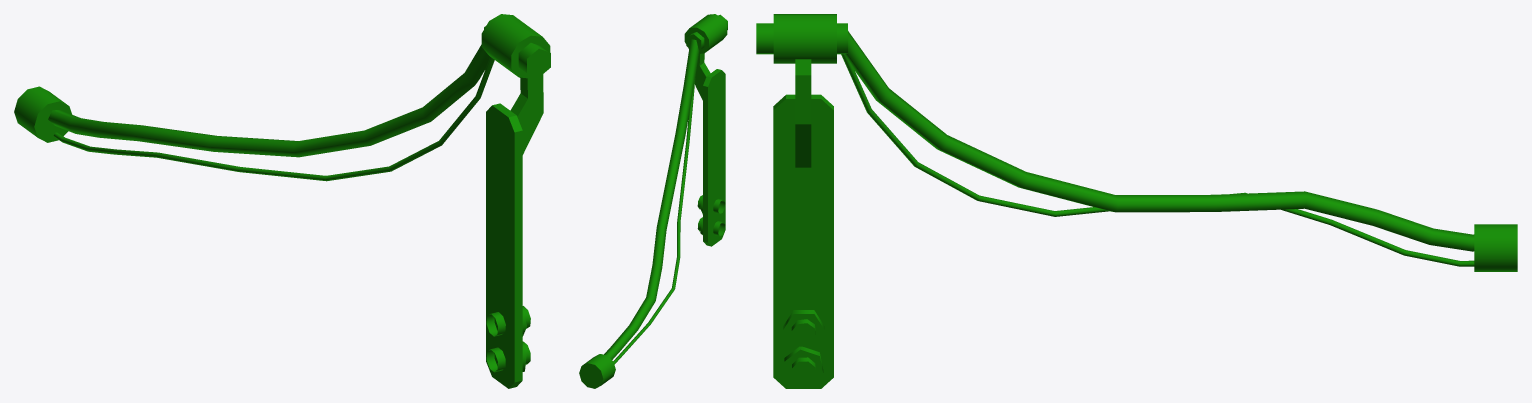
The model's file is mech 1 cable holder.FBX.
3 renders of one model, left to right at view 1: azimuth 30°, elevation 25°; view 2: azimuth 150°, elevation 25°; view 3: azimuth 270°, elevation 25°, orthographic. The views are drawn at different scales.
Parts seen in each view (by area): view 1: Object086; view 2: Object086; view 3: Object086.
Part boxes in pixels (x1=…): Object086: x1=14, y1=14, x2=550, y2=388; Object086: x1=579, y1=14, x2=727, y2=388; Object086: x1=756, y1=14, x2=1517, y2=388.
Size of the model in its own units: 0.568 by 1 by 1.83.
